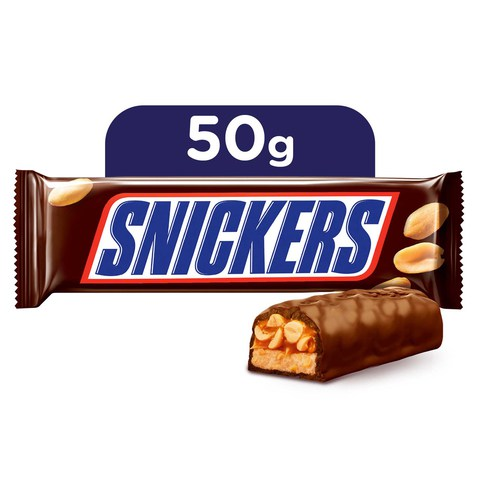snickers: (95, 198, 386, 275), (96, 198, 386, 275), (96, 198, 386, 272), (96, 202, 378, 272)
